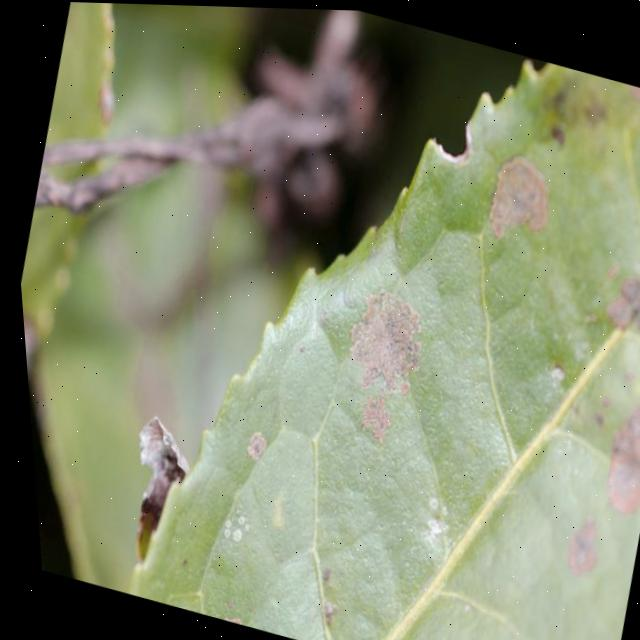Tea red rust: (236, 46, 640, 640)
